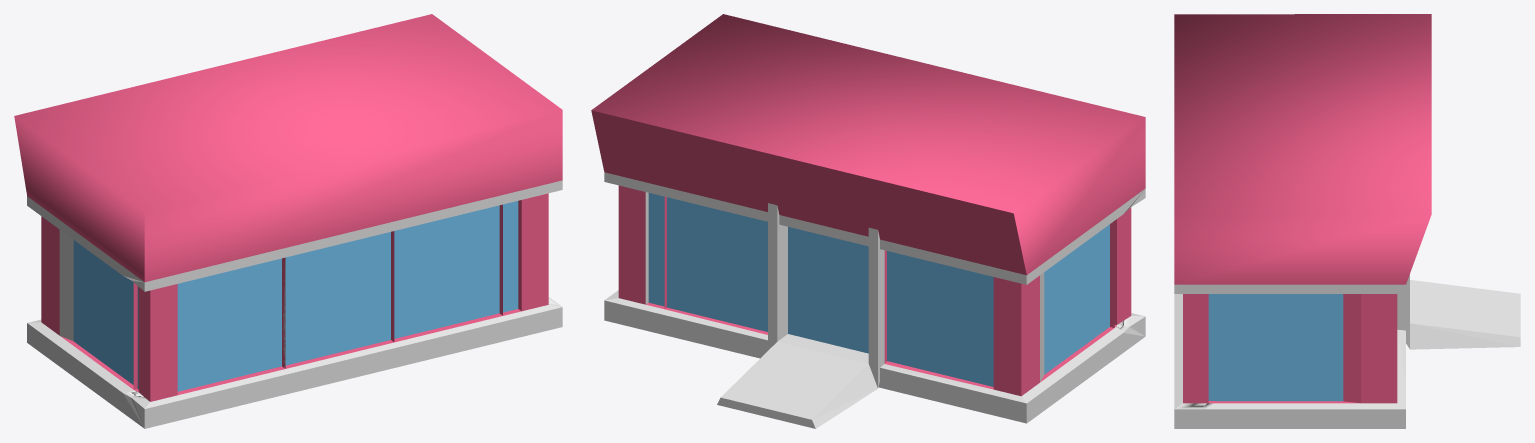
The model's file is Shop4x2x2Pink.fbx.
3 renders of one model, left to right at view 1: azimuth 30°, elevation 25°; view 2: azimuth 150°, elevation 25°; view 3: azimuth 270°, elevation 25°, orthographic. The views are drawn at different scales.
Parts seen in each view (by area): view 1: Shop.002; view 2: Shop.002; view 3: Shop.002.
Boxes of the visible parts, box(x1,y1,x2,y2) form: Shop.002: box(14, 14, 562, 428); Shop.002: box(591, 14, 1145, 428); Shop.002: box(1174, 14, 1520, 428).
Bounding box in the file's own units: 3.99 × 1.98 × 2.91.
1 material, 1 textured.
